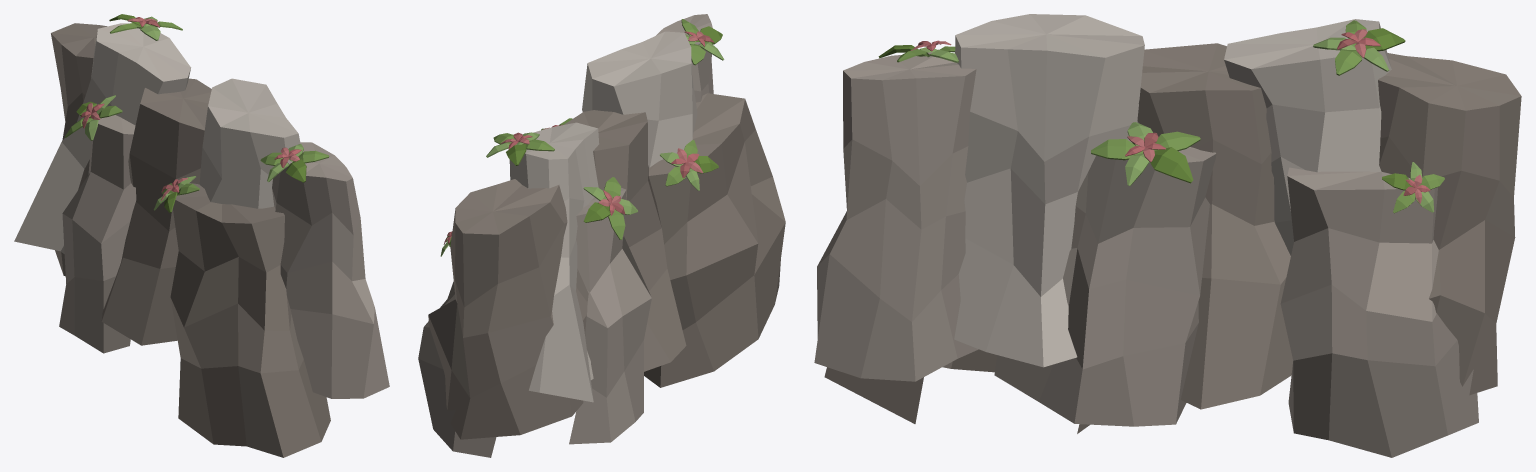
Rendered from Border.fbx.
3 renders of one model, left to right at view 1: azimuth 30°, elevation 25°; view 2: azimuth 150°, elevation 25°; view 3: azimuth 270°, elevation 25°, orthographic. The views are drawn at different scales.
Parts seen in each view (by area): view 1: Umrandung; view 2: Umrandung; view 3: Umrandung.
Part boxes in pixels (box(x1,y1,x2,y2)): Umrandung: box(14, 14, 389, 457); Umrandung: box(418, 14, 785, 457); Umrandung: box(814, 14, 1521, 457).
Bounding box in the file's own units: 540 × 845 × 1331.
